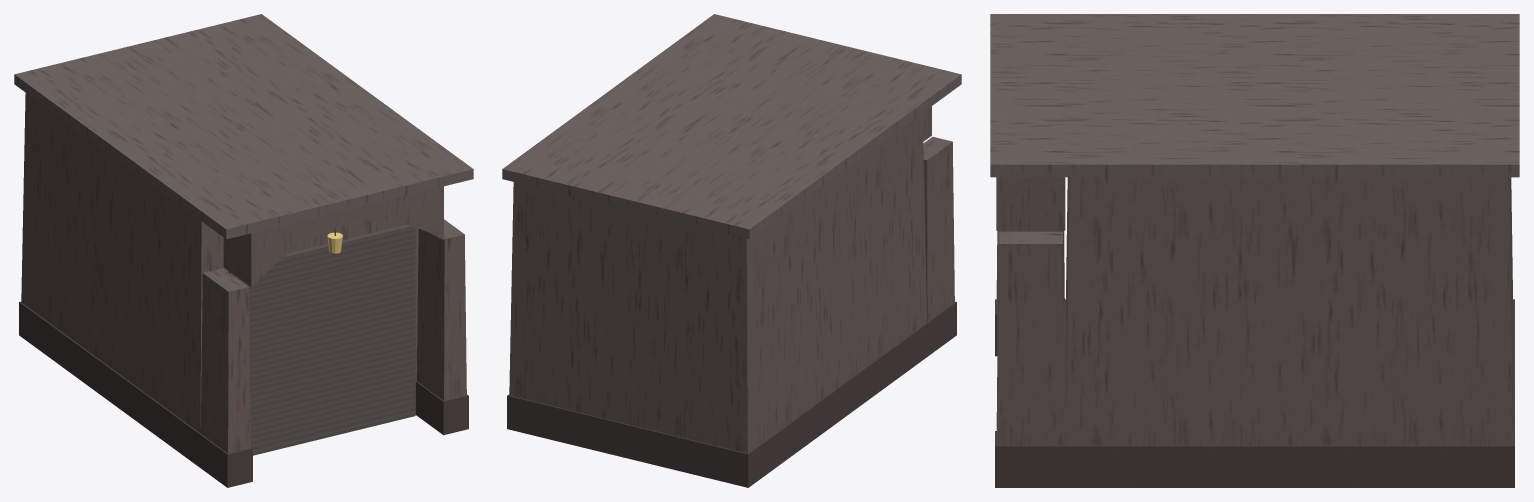
File: SM_Souq_Stall_W3D45H30.fbx
The picture shows the model from 3 angles, left to right: view 1: azimuth 30°, elevation 25°; view 2: azimuth 150°, elevation 25°; view 3: azimuth 270°, elevation 25°; orthographic projection. The views are drawn at different scales.
Parts seen in each view (by area): view 1: SM_Souq_Stall_W3D45H30; view 2: SM_Souq_Stall_W3D45H30; view 3: SM_Souq_Stall_W3D45H30.
Boxes of the visible parts, x1,y1,x2,y2 form: SM_Souq_Stall_W3D45H30: (14, 14, 473, 487); SM_Souq_Stall_W3D45H30: (502, 14, 961, 487); SM_Souq_Stall_W3D45H30: (990, 14, 1519, 487).
Bounding box in the file's own units: 310 × 312 × 460.
Materials: 6 (6 with a texture image).
